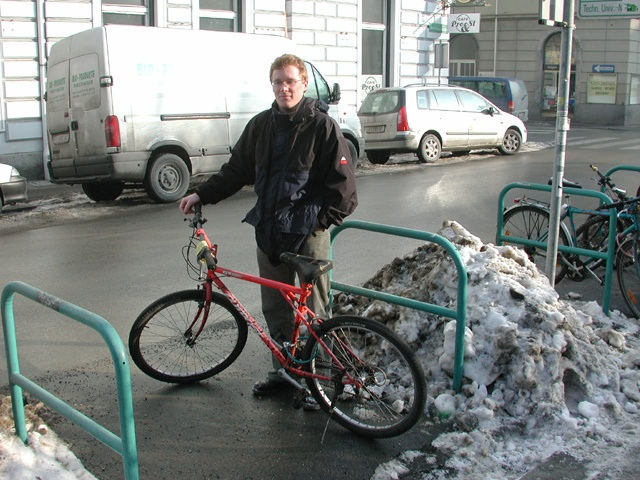person: (238, 53, 345, 412)
